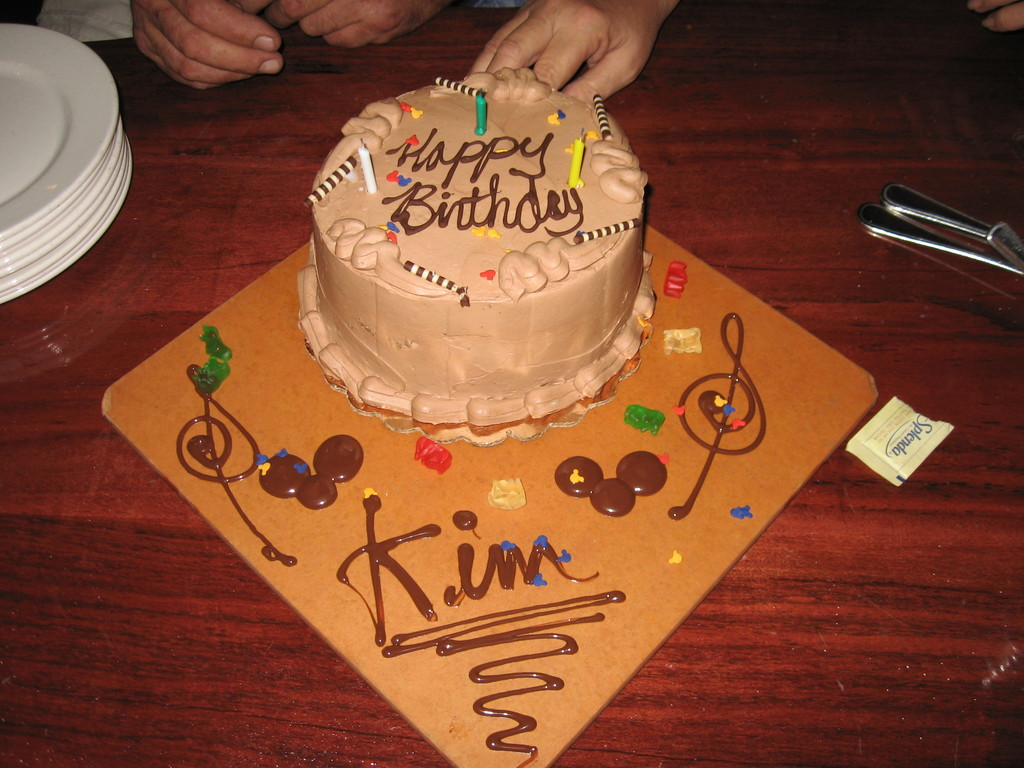plate: (0, 16, 128, 291)
